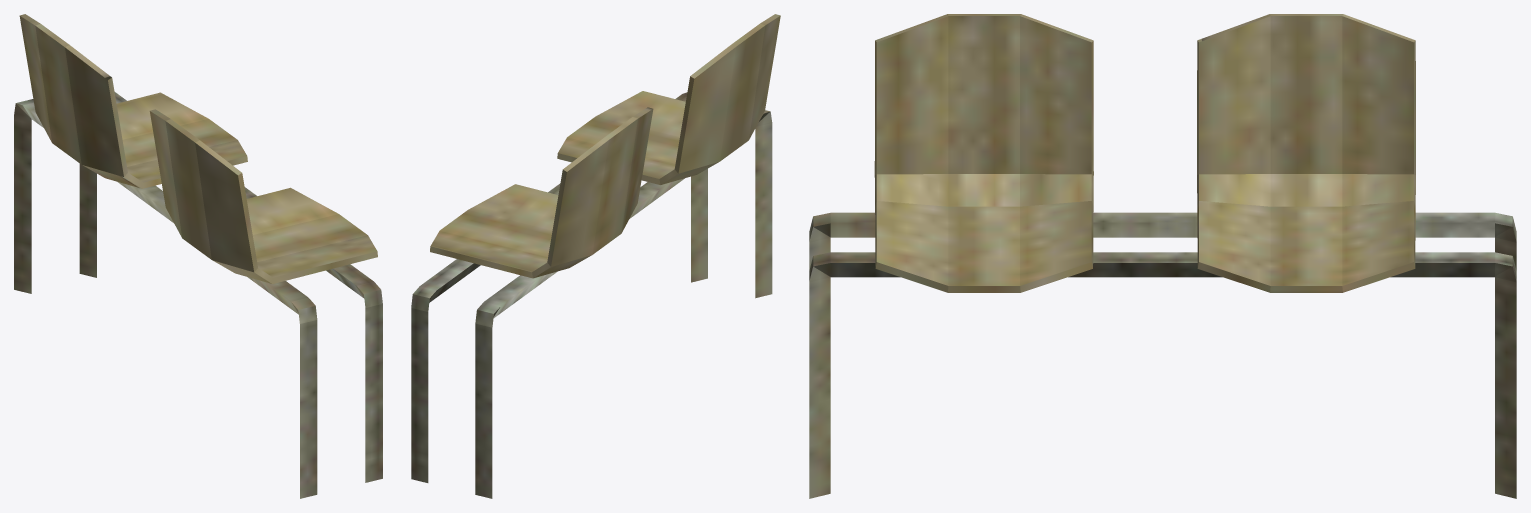
Rendered from Urban_BusstopTwoSeatsAlt2_Model.fbx.
3 renders of one model, left to right at view 1: azimuth 30°, elevation 25°; view 2: azimuth 150°, elevation 25°; view 3: azimuth 270°, elevation 25°, orthographic. The views are drawn at different scales.
Parts seen in each view (by area): view 1: Urban_BusstopTwoSeatsAlt2_Mesh; view 2: Urban_BusstopTwoSeatsAlt2_Mesh; view 3: Urban_BusstopTwoSeatsAlt2_Mesh.
Part boxes in pixels (x1=…): Urban_BusstopTwoSeatsAlt2_Mesh: x1=14, y1=14, x2=382, y2=498; Urban_BusstopTwoSeatsAlt2_Mesh: x1=411, y1=14, x2=780, y2=498; Urban_BusstopTwoSeatsAlt2_Mesh: x1=809, y1=14, x2=1516, y2=498.
Bounding box in the file's own units: 0.692 × 1.25 × 1.98.
